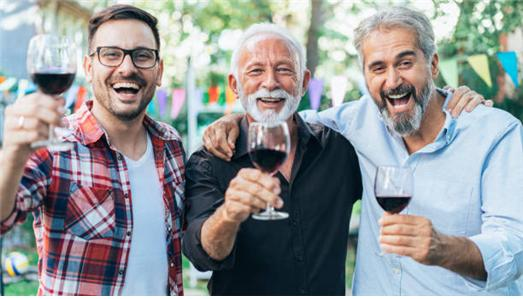alcohol: (27, 33, 76, 150), (247, 121, 291, 220), (374, 165, 415, 257)
